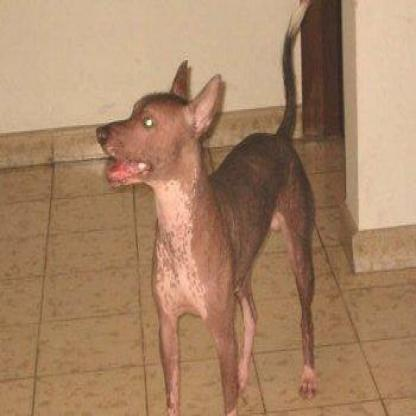Mexican_hairless: (97, 8, 321, 408)
